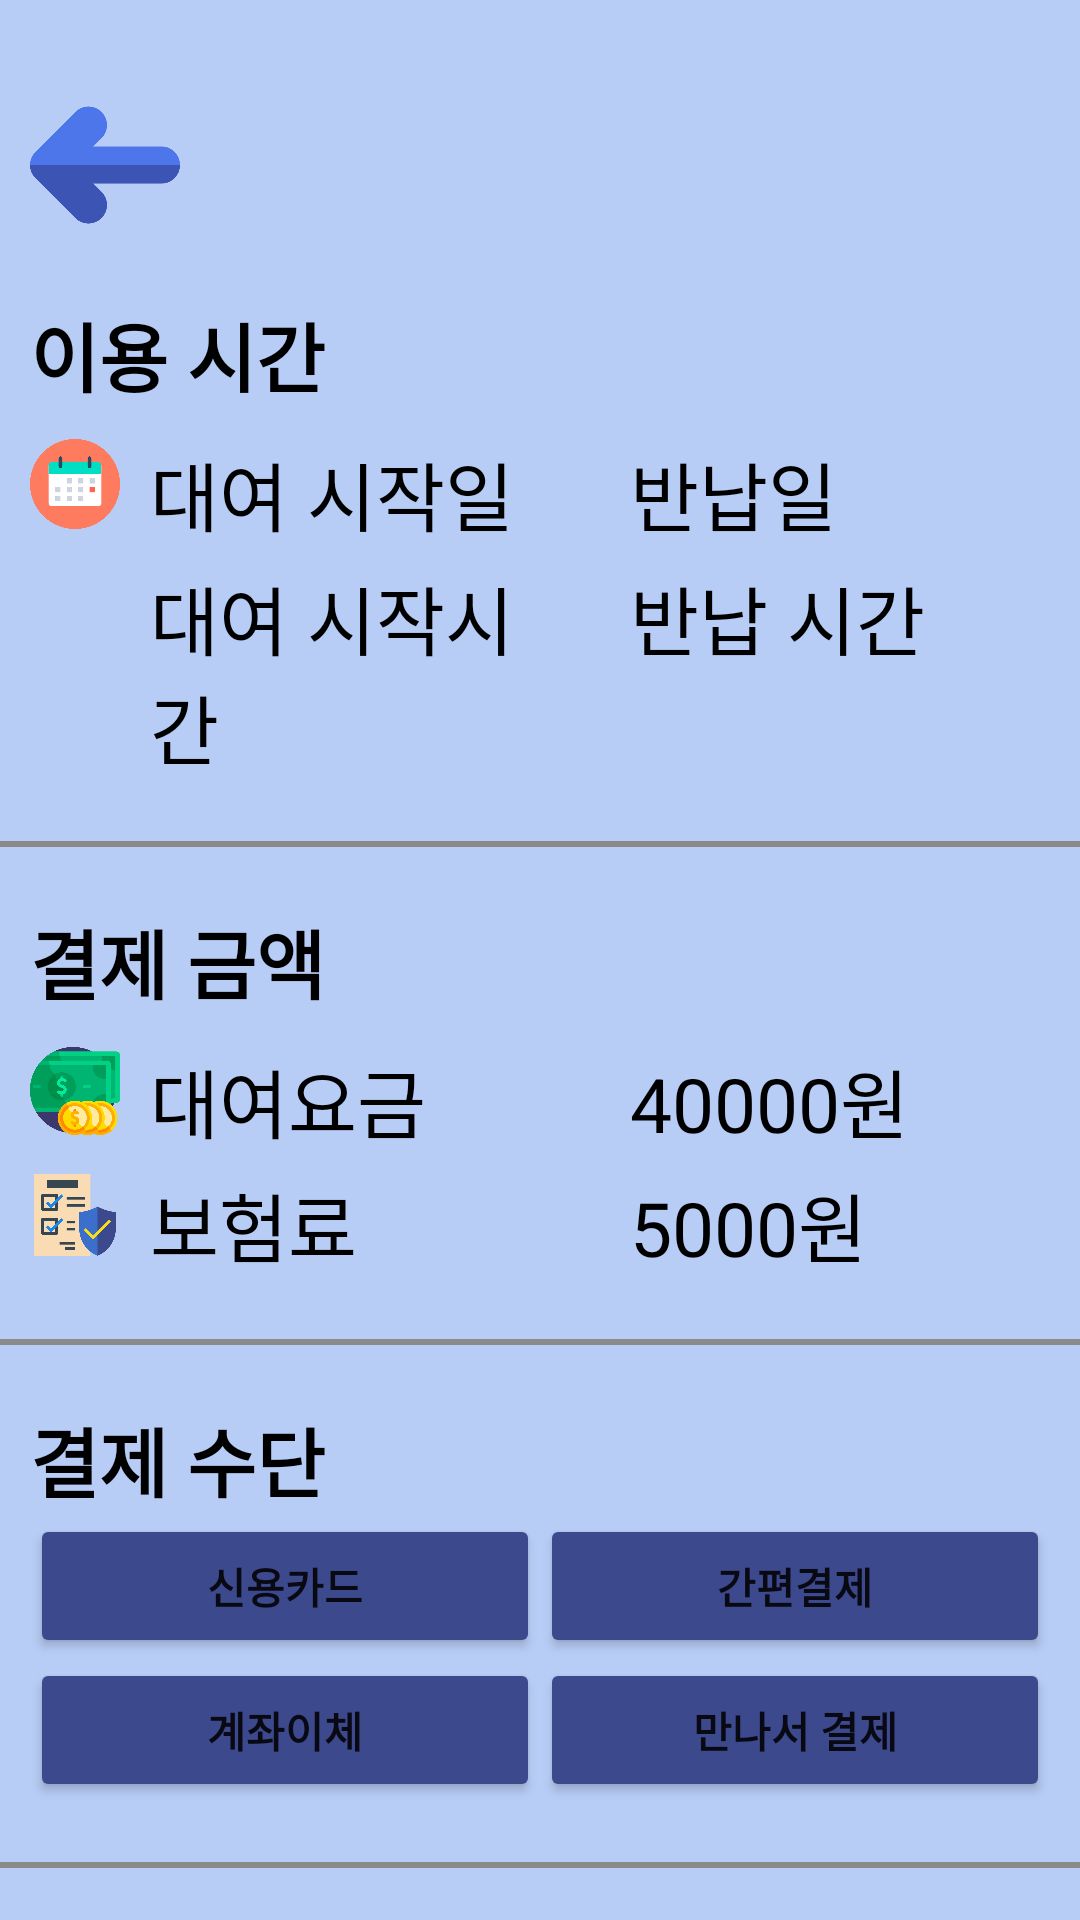

Icon click points for this 1080x1920 phone screenshot, format (x=x, y=y):
back: (x=105, y=165)
calendar: (x=75, y=484)
insurance: (x=75, y=1215)
money: (x=75, y=1091)
